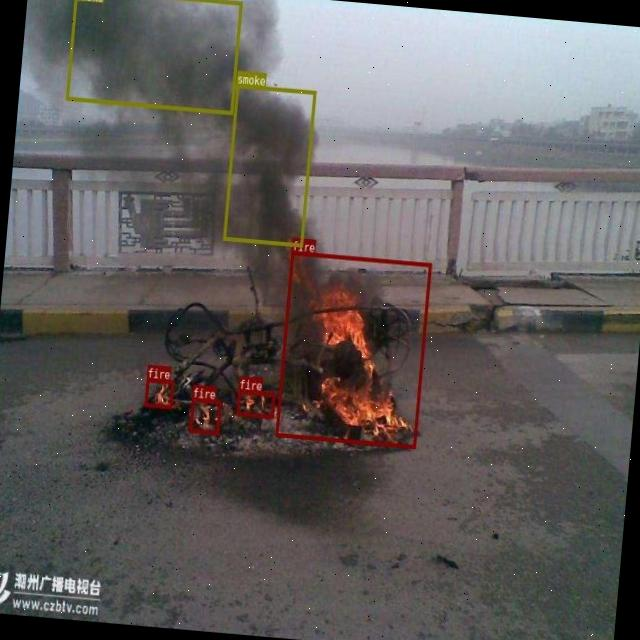fire: (274, 250, 430, 448), (188, 398, 221, 433), (236, 389, 274, 417), (144, 377, 173, 408)
smoke: (65, 0, 241, 113), (223, 84, 315, 246)
